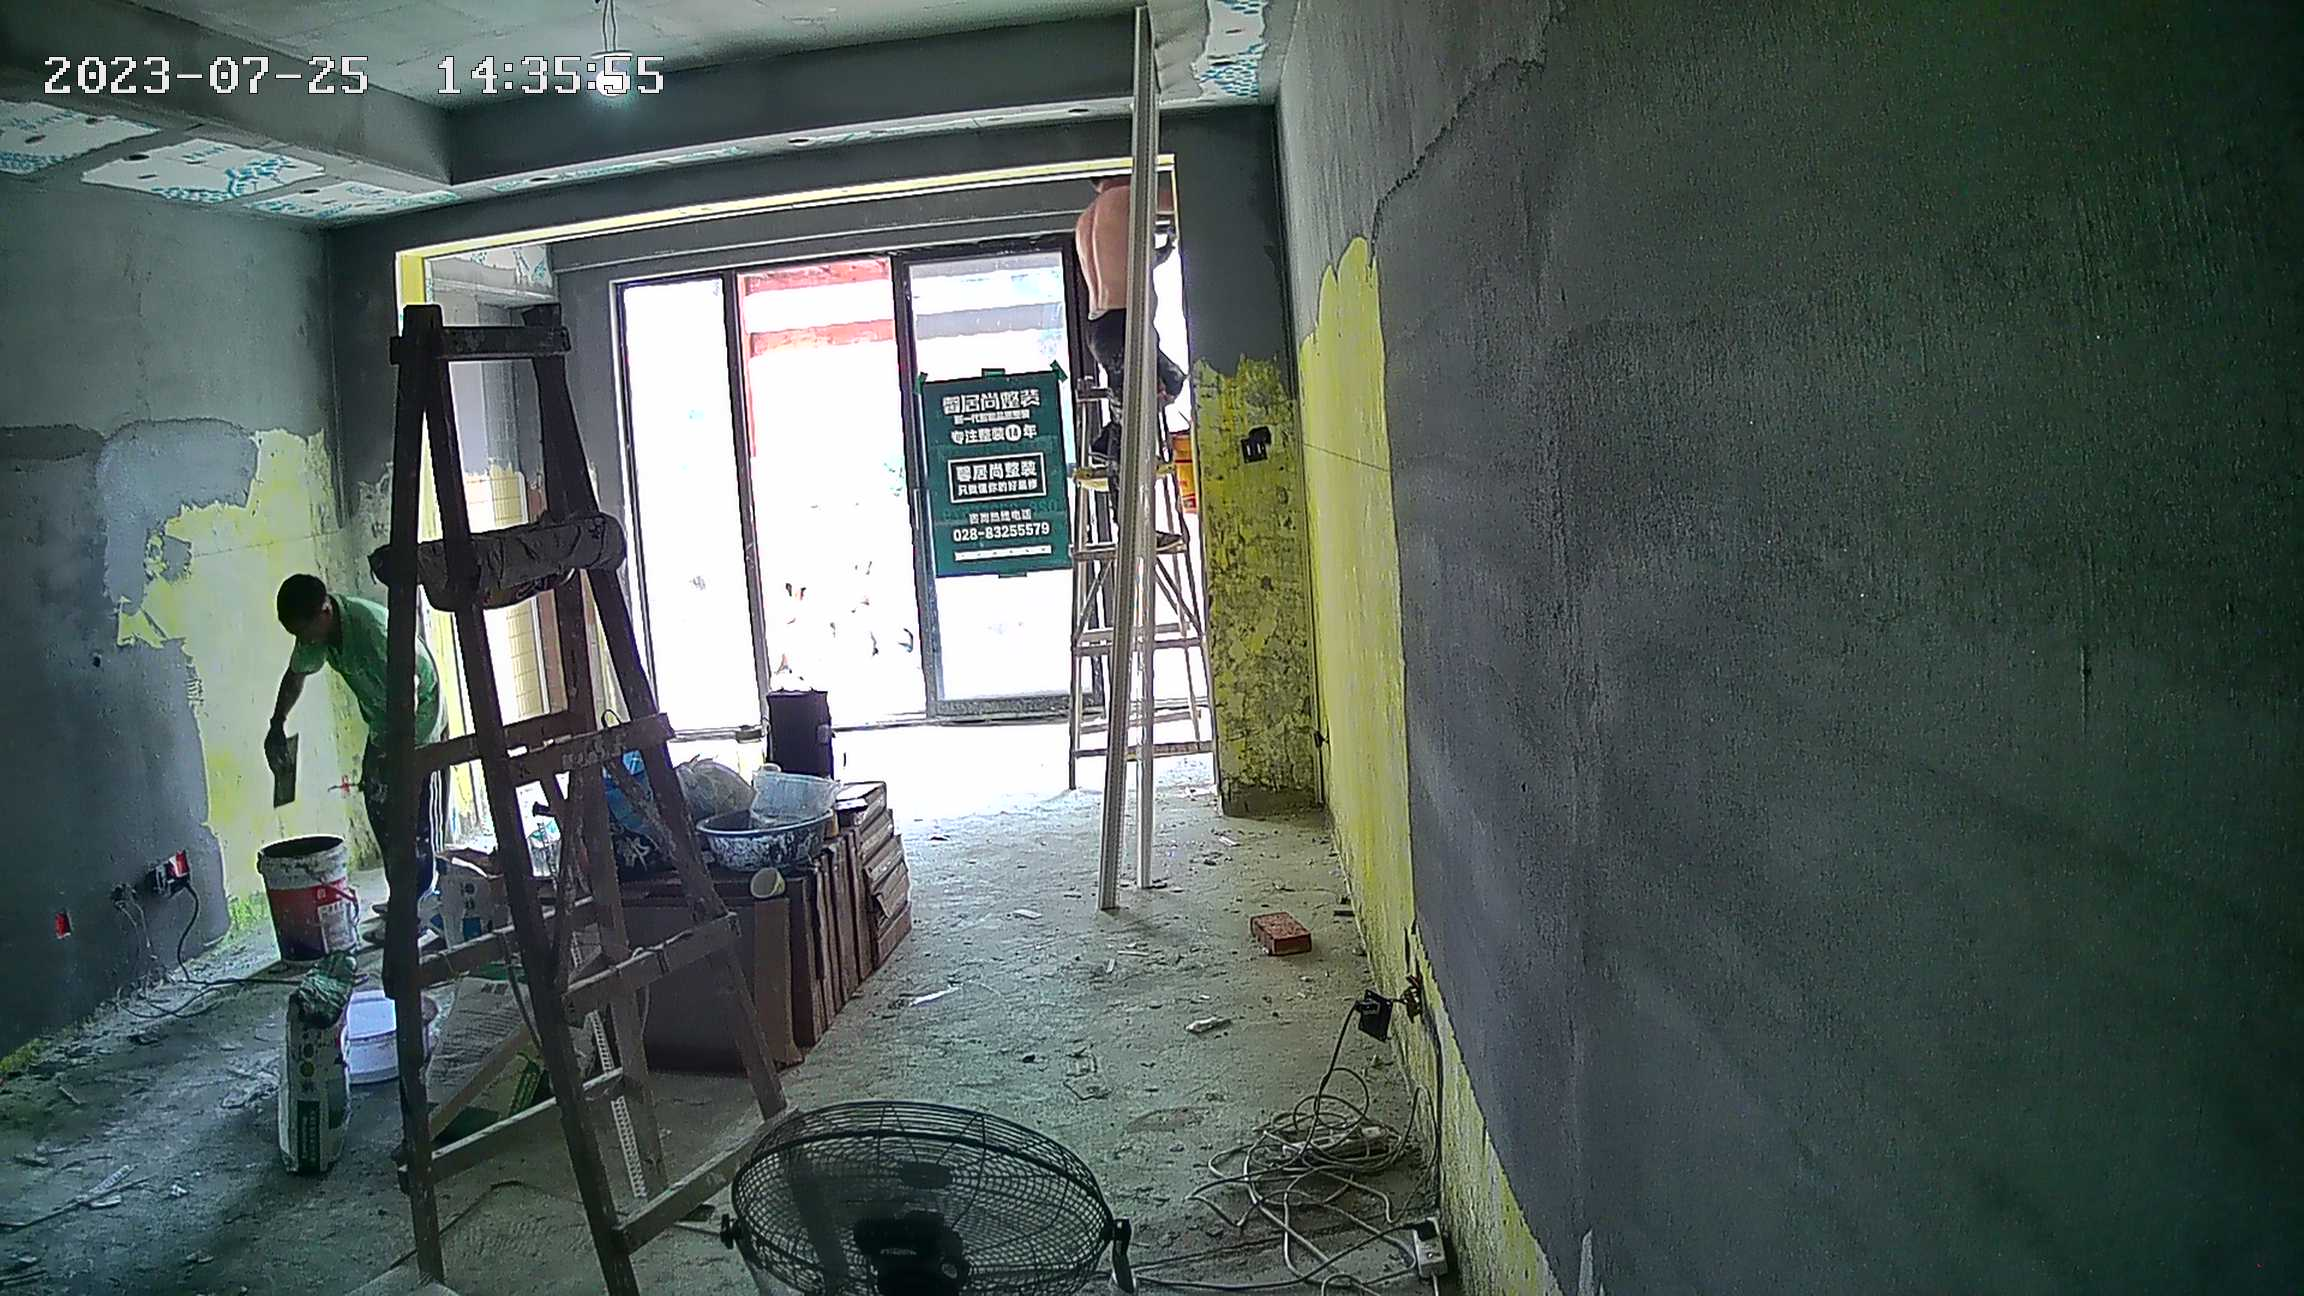people: (250, 569, 442, 904), (1062, 173, 1194, 548)
window: (574, 238, 1129, 736)
